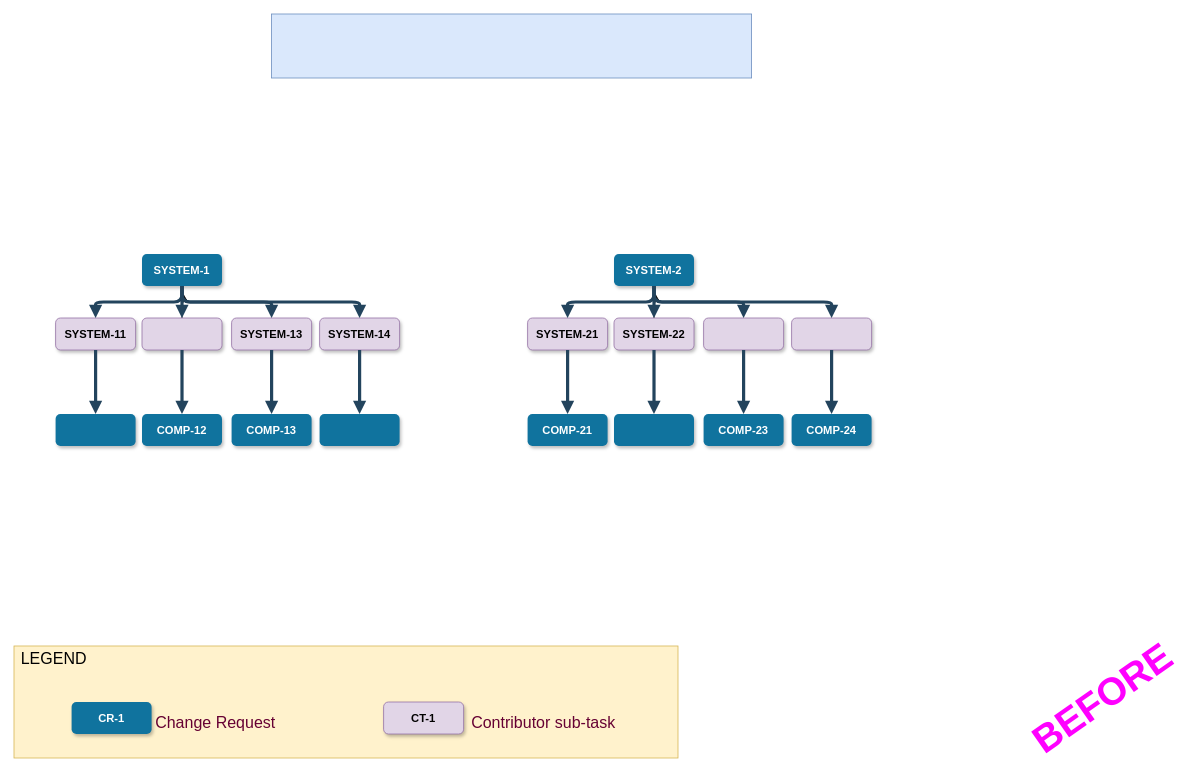
Some shapes in this 1195 by 777 pixel diagram are drawn without their labels. Each missing label, with the centre of its shape:
"COMP-11" belongs at (96,430).
"COMP-14" belongs at (360,430).
"COMP-22" belongs at (654,430).
"SYSTEM (RHYTHM DATAMODEL)" belongs at (511,45).
"SYSTEM-12" belongs at (182,335).
"SYSTEM-23" belongs at (744,335).
"SYSTEM-24" belongs at (832,335).
